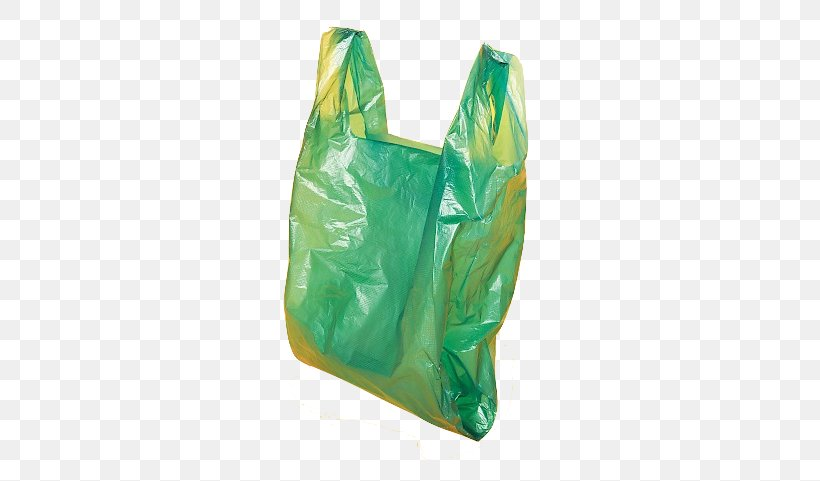plastic_bagwdw: (245, 17, 623, 481)
